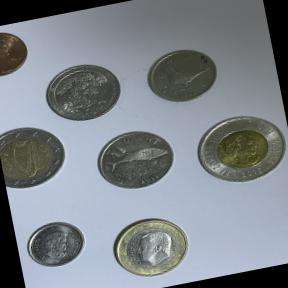1 Euro-B: (102, 206, 200, 286)
2 Euro-B: (0, 115, 73, 193)
Canada-10cent-B: (19, 213, 91, 275)
Canada-2Dollar-B: (182, 99, 288, 197)
Croatia-2Kune-B: (88, 118, 184, 198)
US-1cent-B: (0, 20, 38, 83)
US-25cent-B: (35, 52, 130, 129)
